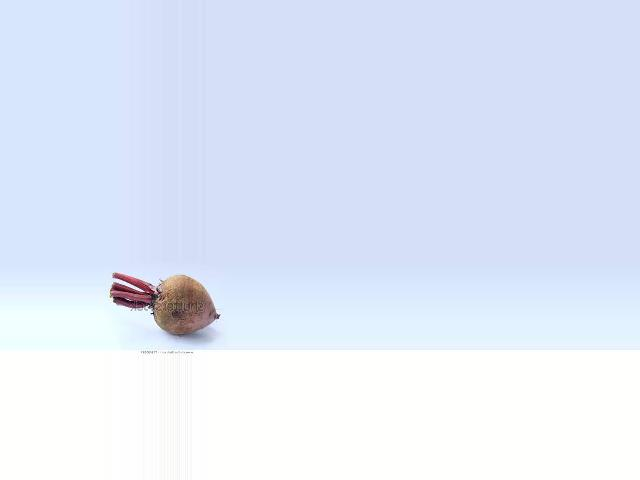beet: (111, 274, 218, 334)
